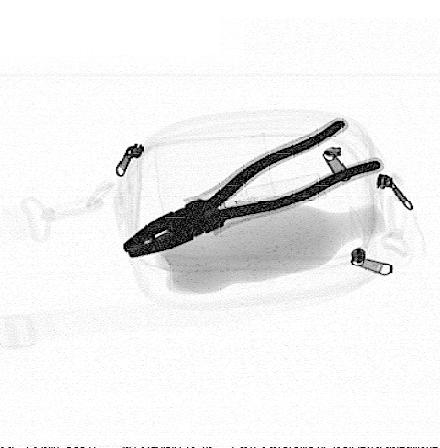Pliers: (119, 116, 385, 264)
